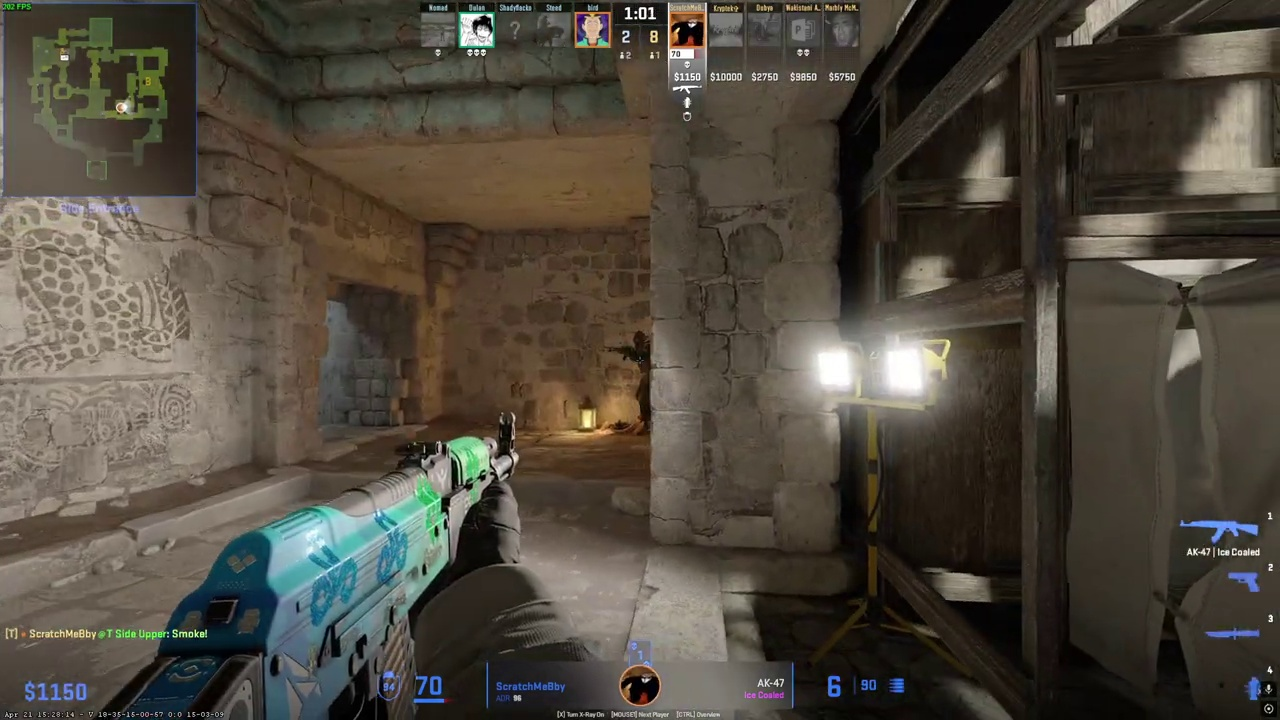CT: (622, 331, 650, 435)
